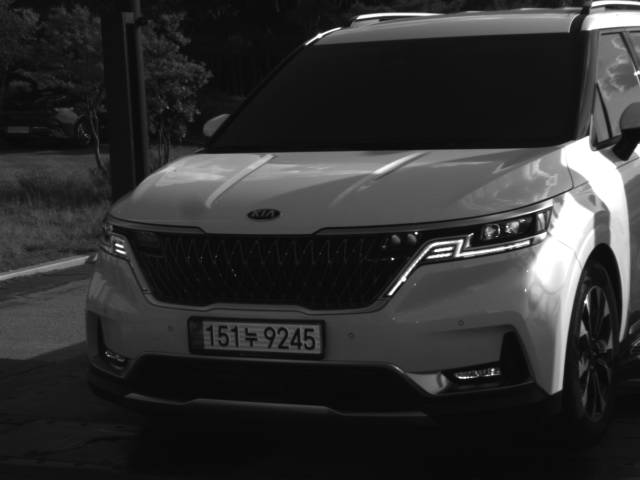car: (83, 1, 639, 451)
plate: (185, 315, 326, 357)
